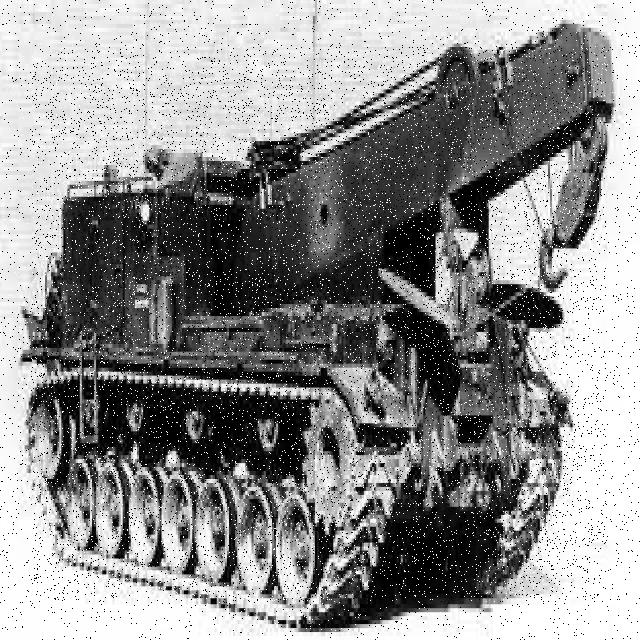MIL_MBT: (32, 47, 606, 602)
